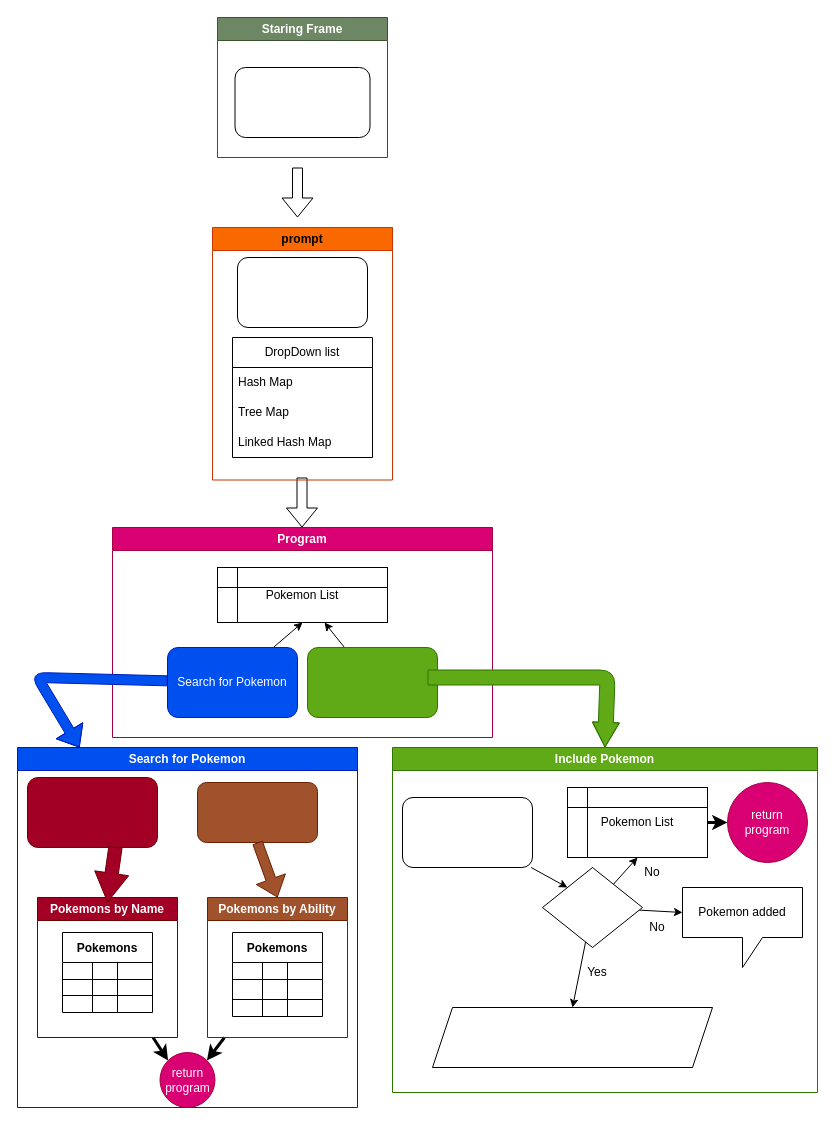
This 835x1125 diagram has some shape labels left out. The shapes that lost their labels are listed below. From the top down, each one's centre as x and y in pixels, then its label:
the point at 302,102: Intert file (csv)
the point at 302,292: Which type of Mapping do you want to use
the point at 372,682: Include Pokemon to File
the point at 92,812: Search by Pokemon Name
the point at 257,812: Search by Pokemon Ability
the point at 467,832: Add pokemon by name
the point at 592,907: Same Name
the point at 572,1037: Error pokemon with {name} already exists
